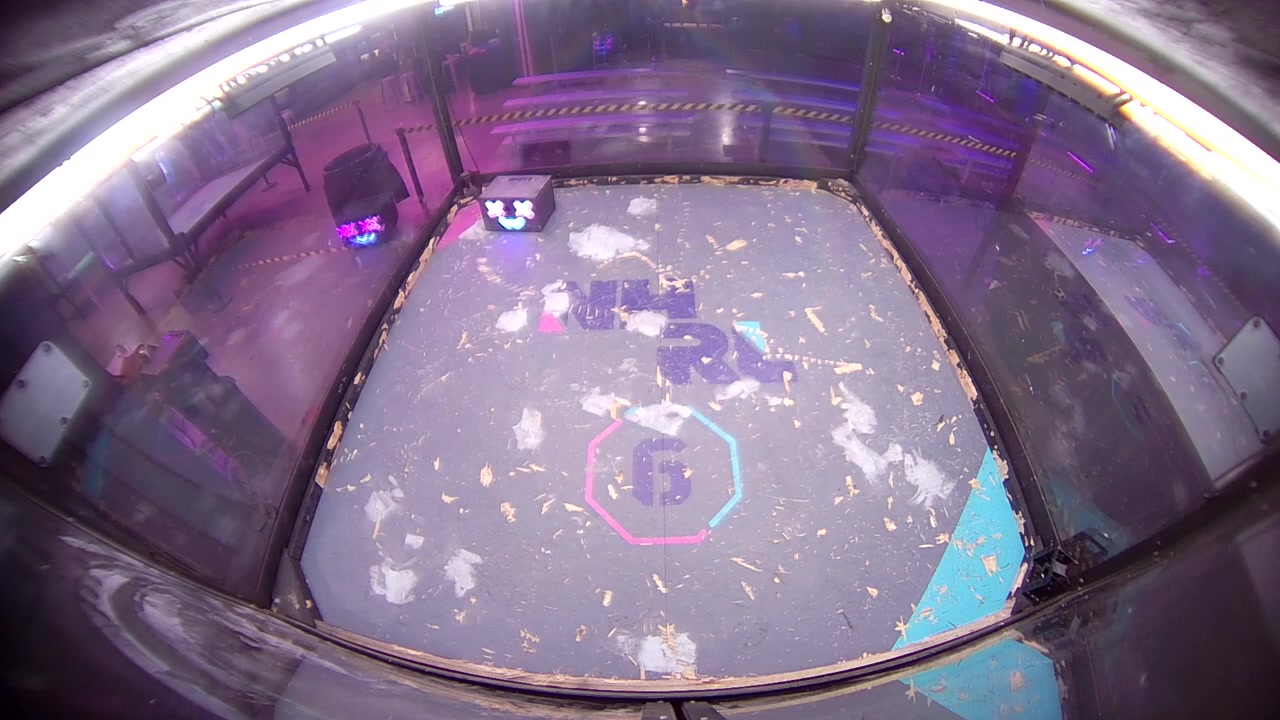housebot: (480, 175, 557, 234)
